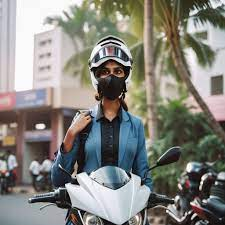helmets: (82, 30, 144, 103)
